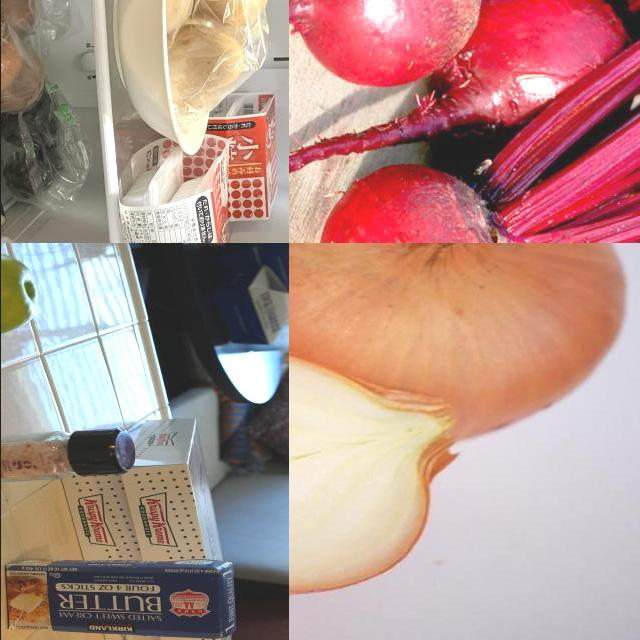beet: (439, 1, 631, 129), (297, 159, 511, 244), (289, 1, 480, 86)
eggplant: (5, 135, 63, 203), (1, 94, 59, 149)
onion: (289, 244, 627, 444), (289, 351, 455, 599), (1, 43, 44, 116), (1, 11, 24, 100), (1, 1, 38, 40)
